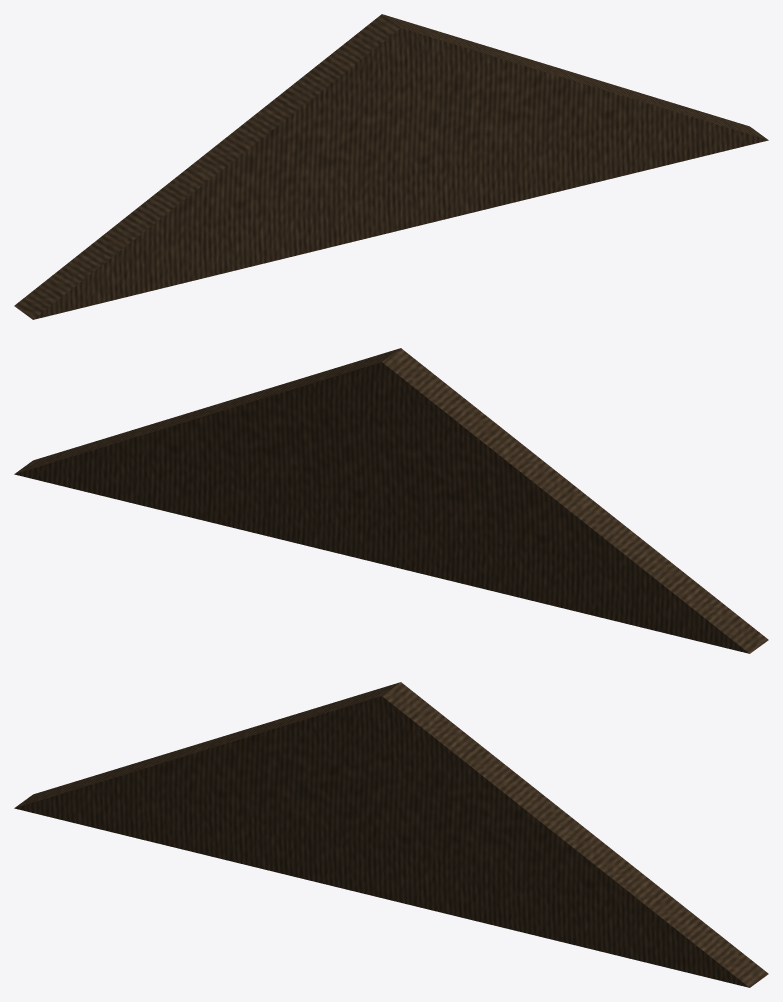
Rendered from Roof_Gable_4m.glb.
The picture shows the model from 3 angles, top to bottom: view 1: azimuth 30°, elevation 25°; view 2: azimuth 150°, elevation 25°; view 3: azimuth 330°, elevation 25°; orthographic projection.
Visible parts, largest first — view 1: Roof_Gable_4m; view 2: Roof_Gable_4m; view 3: Roof_Gable_4m.
Part boxes in pixels (<box>): Roof_Gable_4m: <box>14,14,768,319</box>; Roof_Gable_4m: <box>14,348,768,653</box>; Roof_Gable_4m: <box>14,682,768,987</box>.
Size of the model in its own units: 4 by 1.05 by 0.18.
1 material, 1 textured.
